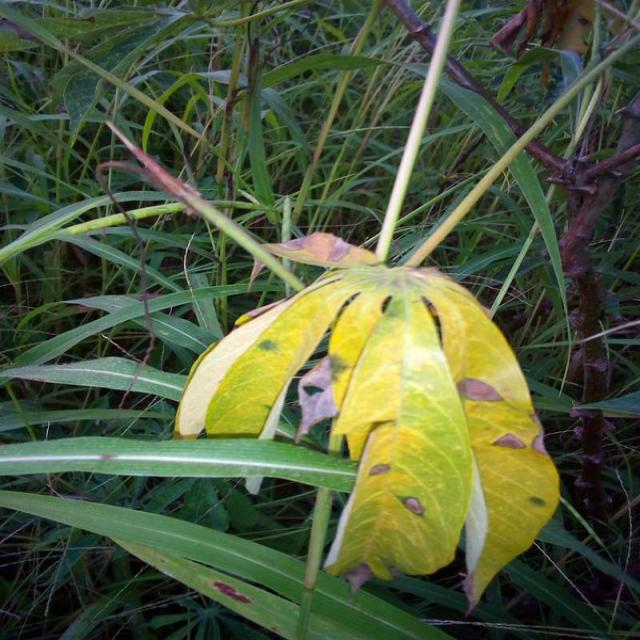cassava leaf: (172, 259, 560, 616)
